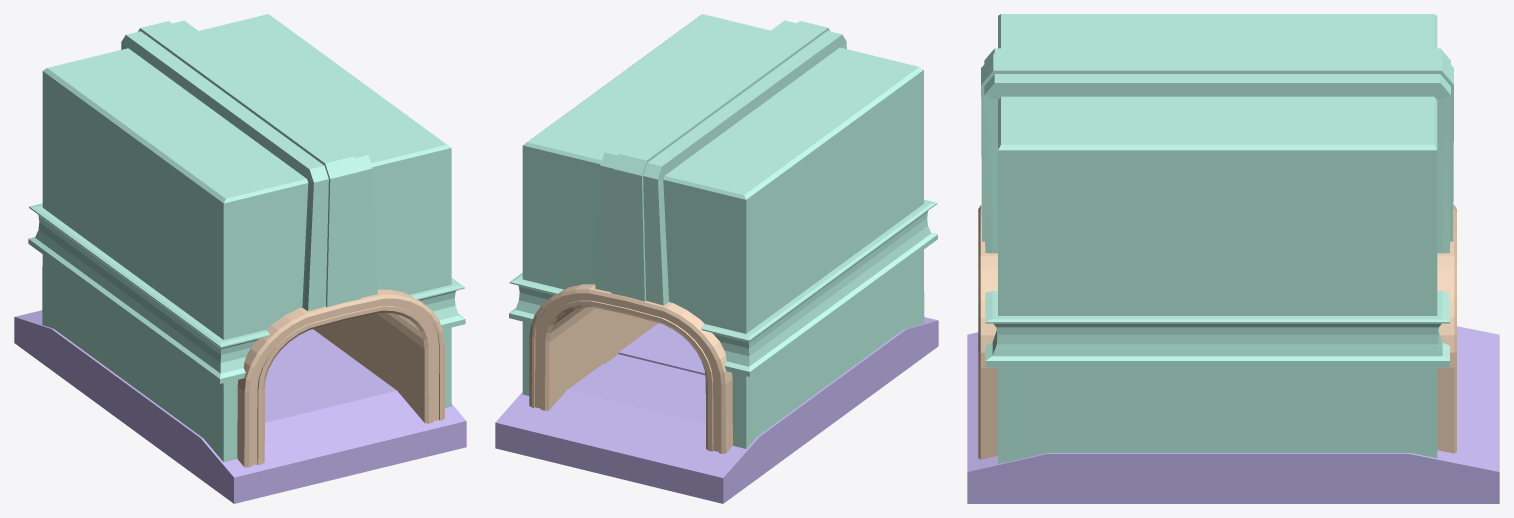
File: Door.fbx
3 views of the same model, side by side, from view 1: azimuth 30°, elevation 25°; view 2: azimuth 150°, elevation 25°; view 3: azimuth 270°, elevation 25° (orthographic). The views are drawn at different scales.
Visible parts, largest first — view 1: doorcase; view 2: doorcase; view 3: doorcase.
Boxes of the visible parts, x1,y1,x2,y2 form: doorcase: (14,14,466,503); doorcase: (495,14,938,503); doorcase: (967,14,1499,503).
Bounding box in the file's own units: 2244 × 2687 × 3476.
